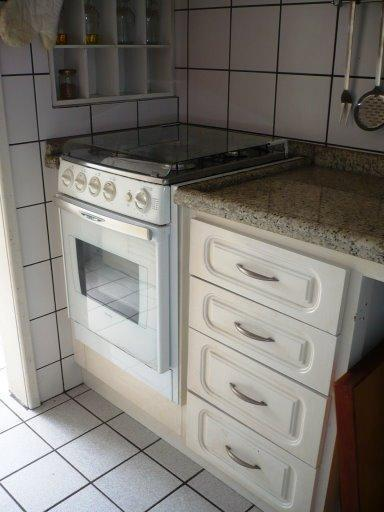Electrodomestico: (69, 148, 181, 446)
